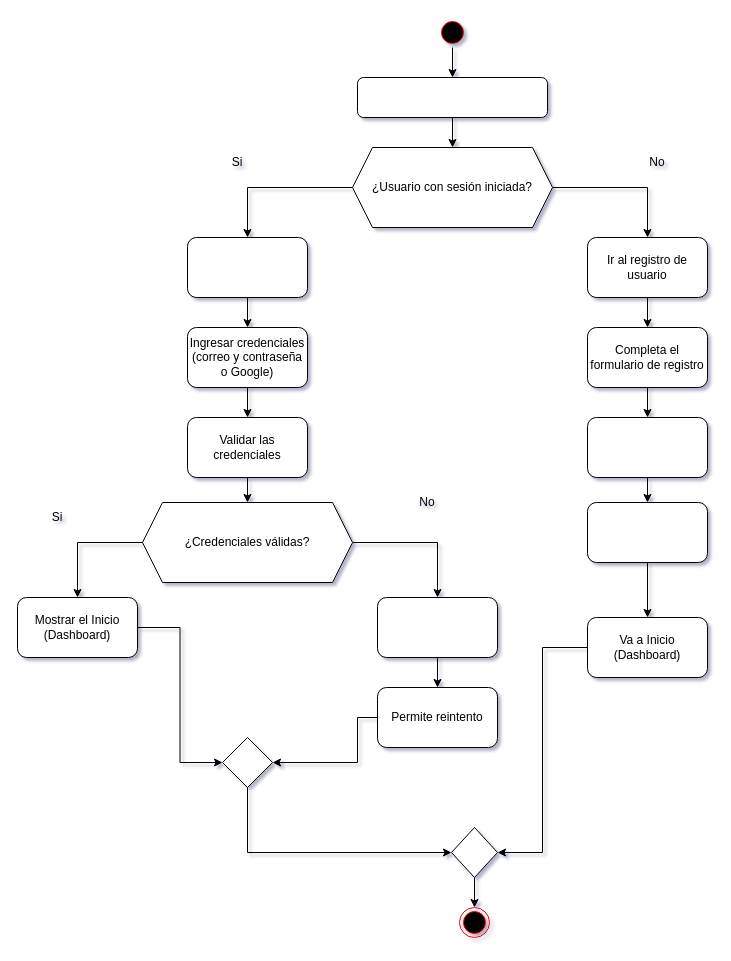
Image size: 731x961. Some labels were removed from this diagram. Here are the shapes that lost their labels. From the top down, the centre of each, then its label:
point 452,97: Inicio de la aplicación
point 247,267: Ir a la pantalla de inicio de sesión
point 647,447: Valida los datos
point 647,532: Crea la cuenta y envía la verificación
point 437,627: Muestra error de autenticación
